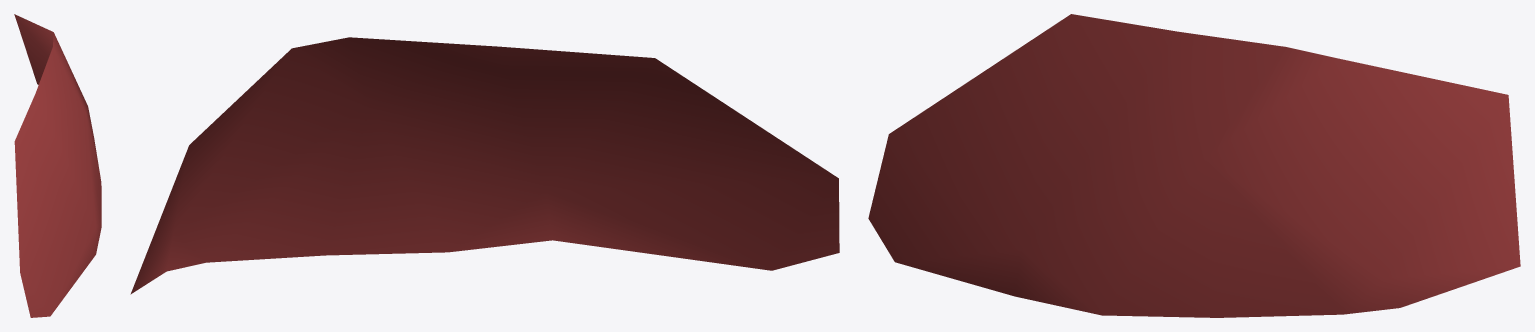
The model's file is plantar-interossei-muscles-e1l.glb.
The picture shows the model from 3 angles, left to right: view 1: azimuth 30°, elevation 25°; view 2: azimuth 150°, elevation 25°; view 3: azimuth 270°, elevation 25°; orthographic projection. The views are drawn at different scales.
Visible parts, largest first — view 1: Plantar interossei muscles.e1l; view 2: Plantar interossei muscles.e1l; view 3: Plantar interossei muscles.e1l.
Boxes of the visible parts, box(x1,y1,x2,y2) form: Plantar interossei muscles.e1l: box(14, 14, 101, 317); Plantar interossei muscles.e1l: box(130, 37, 839, 294); Plantar interossei muscles.e1l: box(868, 14, 1520, 317).
Bounding box in the file's own units: 0.00326 × 0.00262 × 0.00491.
